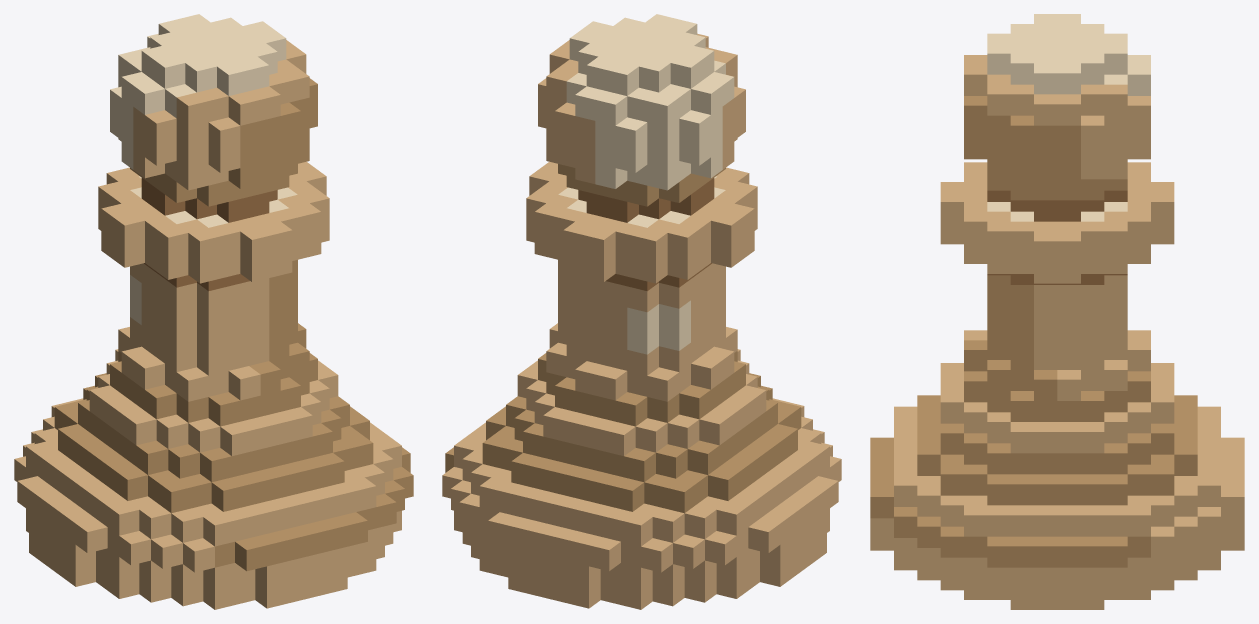
File: pawn_white.obj
3 views of the same model, side by side, from view 1: azimuth 30°, elevation 25°; view 2: azimuth 150°, elevation 25°; view 3: azimuth 270°, elevation 25° (orthographic).
Parts seen in each view (by area): view 1: pawn_white; view 2: pawn_white; view 3: pawn_white.
Part boxes in pixels (left/top/right/bottom): pawn_white: left=14, top=14, right=413, bottom=609; pawn_white: left=442, top=14, right=841, bottom=609; pawn_white: left=870, top=14, right=1244, bottom=609.
Bounding box in the file's own units: 0.336 × 0.483 × 0.336.
Materials: 1 (1 with a texture image).
